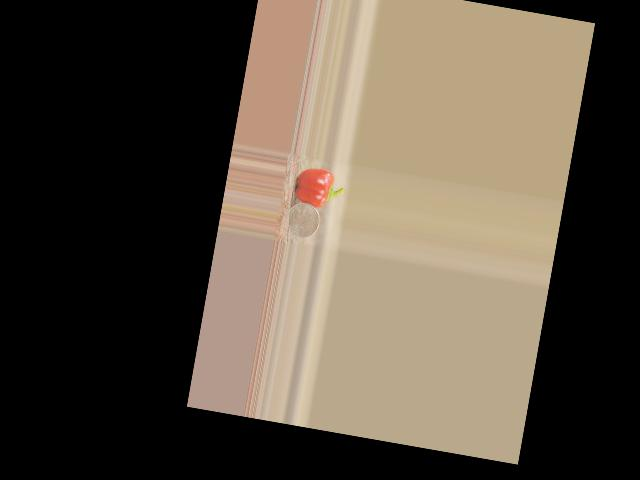bell_pepper: (291, 164, 347, 210)
